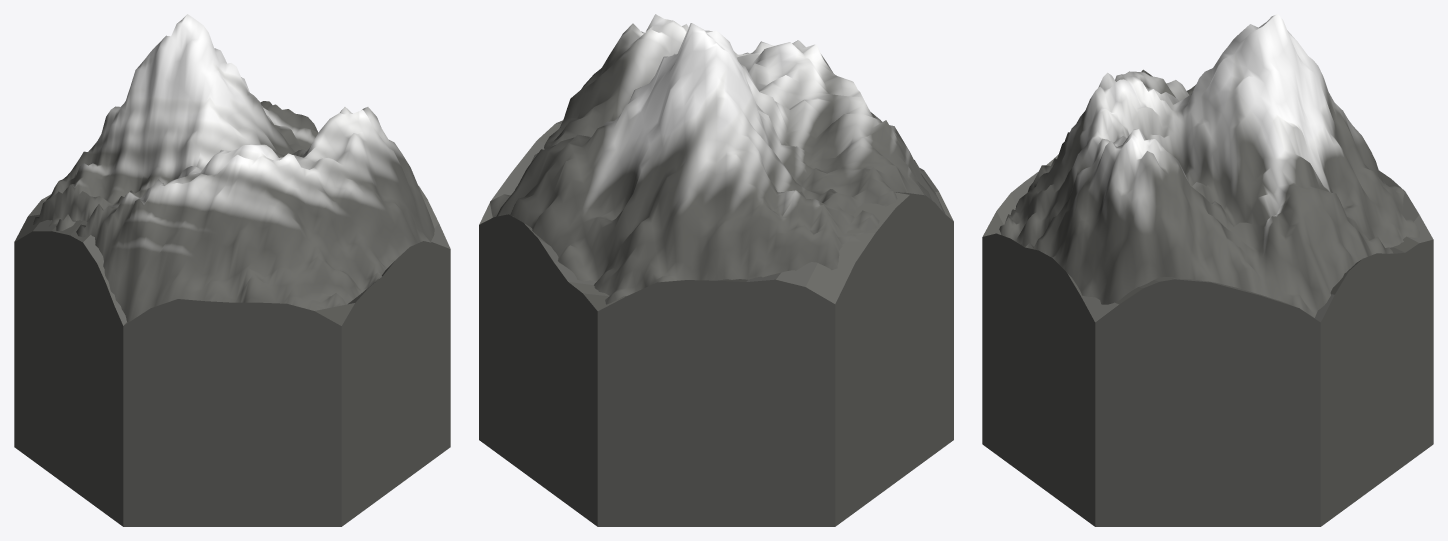
File: catan.fbx
The picture shows the model from 3 angles, left to right: view 1: azimuth 30°, elevation 25°; view 2: azimuth 150°, elevation 25°; view 3: azimuth 270°, elevation 25°; orthographic projection. The views are drawn at different scales.
Parts seen in each view (by area): view 1: Mountain2, Mountain1; view 2: Mountain2, Mountain1; view 3: Mountain2, Mountain1.
Part boxes in pixels (bbox=[...]): Mountain2: bbox=[14, 185, 450, 526]; Mountain1: bbox=[33, 14, 434, 322]; Mountain2: bbox=[479, 120, 953, 526]; Mountain1: bbox=[490, 14, 945, 304]; Mountain2: bbox=[982, 154, 1433, 526]; Mountain1: bbox=[999, 14, 1419, 317].
Size of the model in its own units: 173 by 208 by 200.
2 materials, 1 textured.
